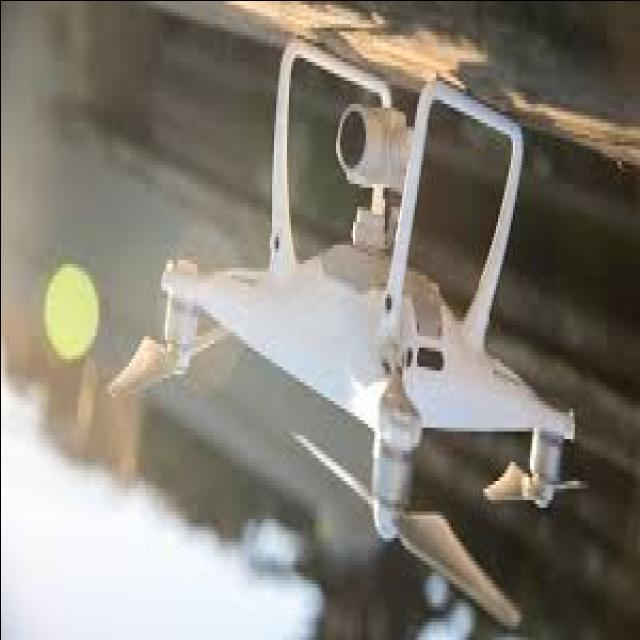drone: (101, 0, 594, 640)
